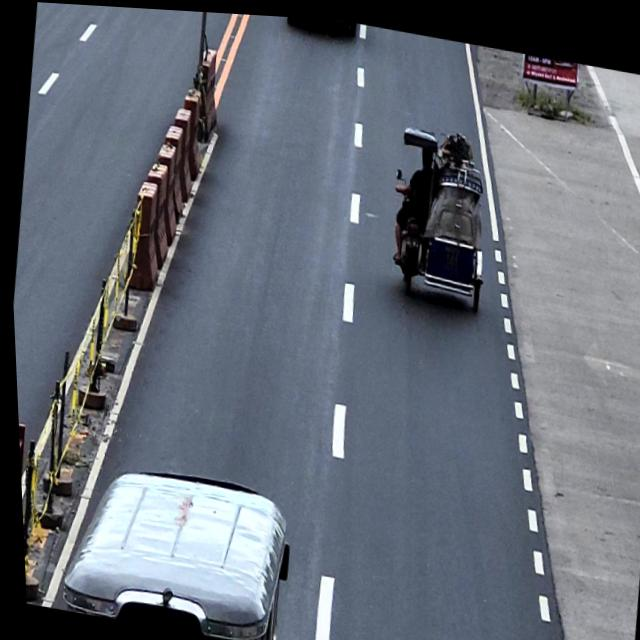Jeep: (49, 453, 295, 640)
License-Plate: (402, 229, 417, 242)
Tricycle: (376, 114, 499, 308)
